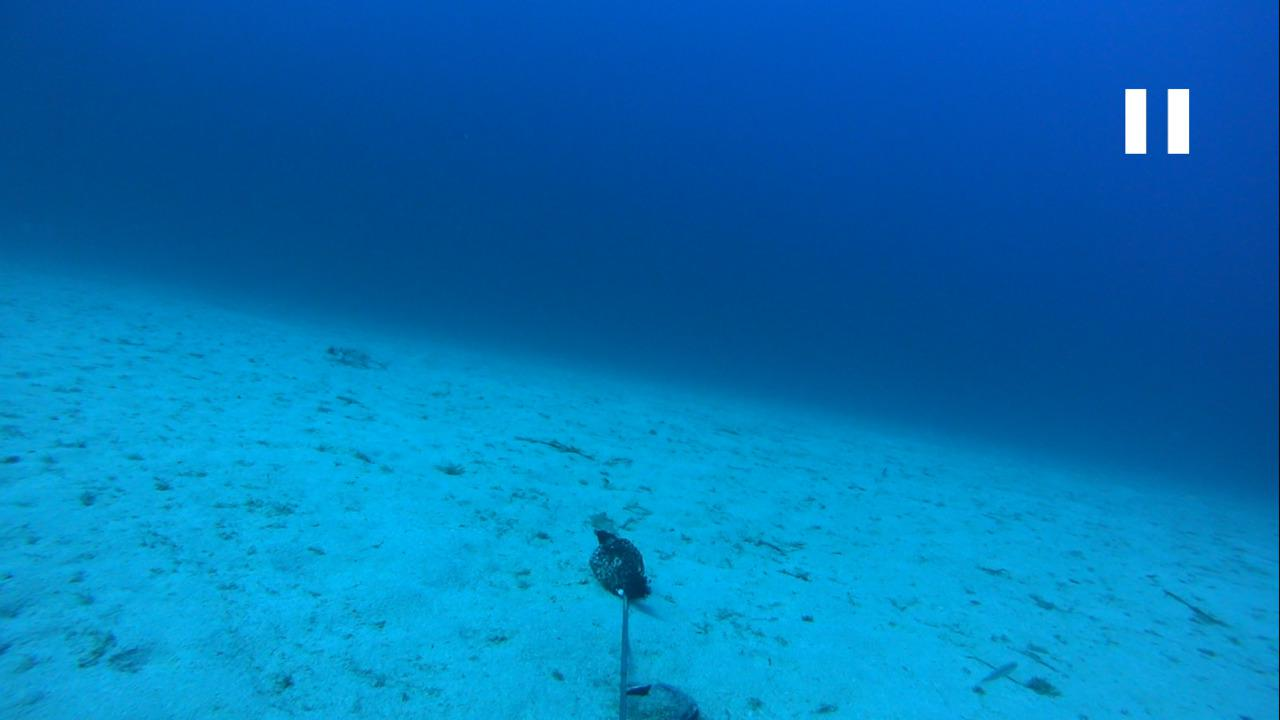dactylopterus: (311, 336, 381, 370)
